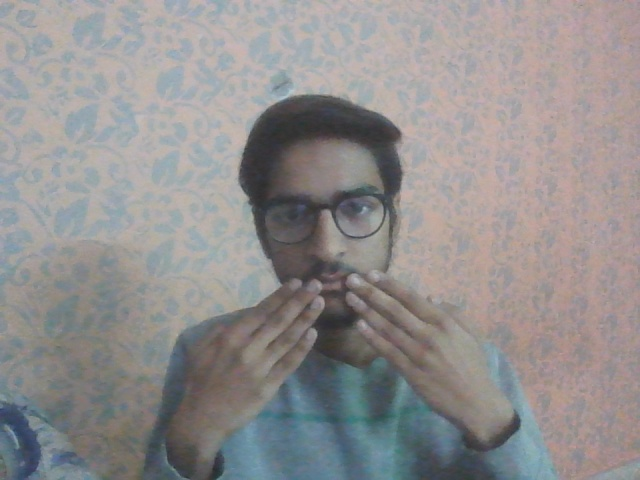ThankYou: (169, 269, 509, 447)
